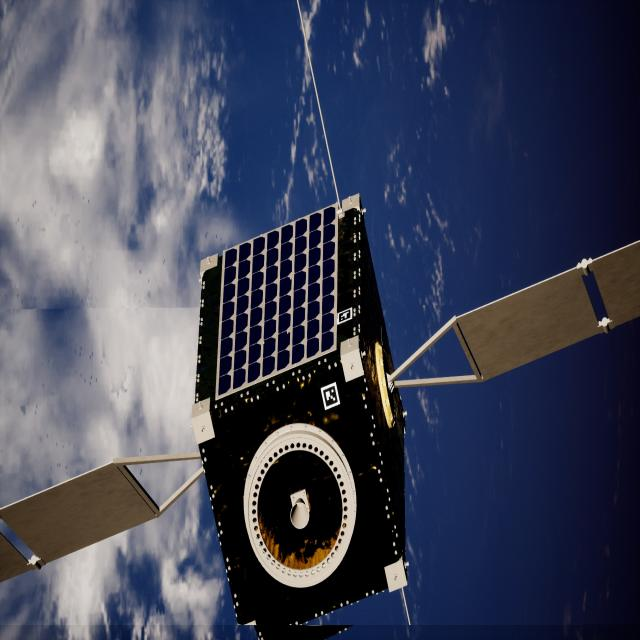medium_debris: (0, 196, 640, 636)
